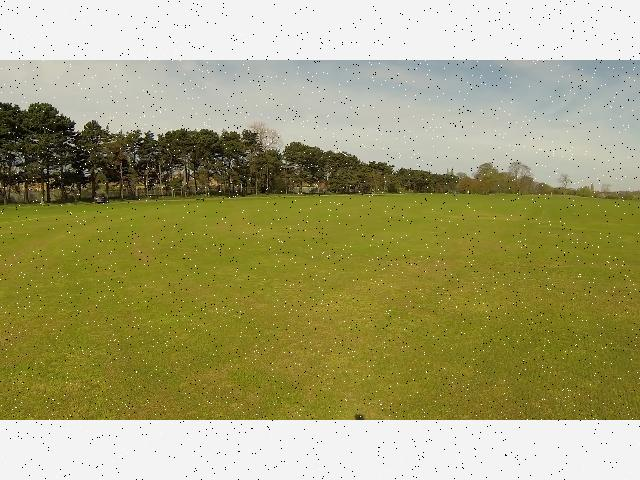Anti-Drone: (332, 146, 358, 163)
